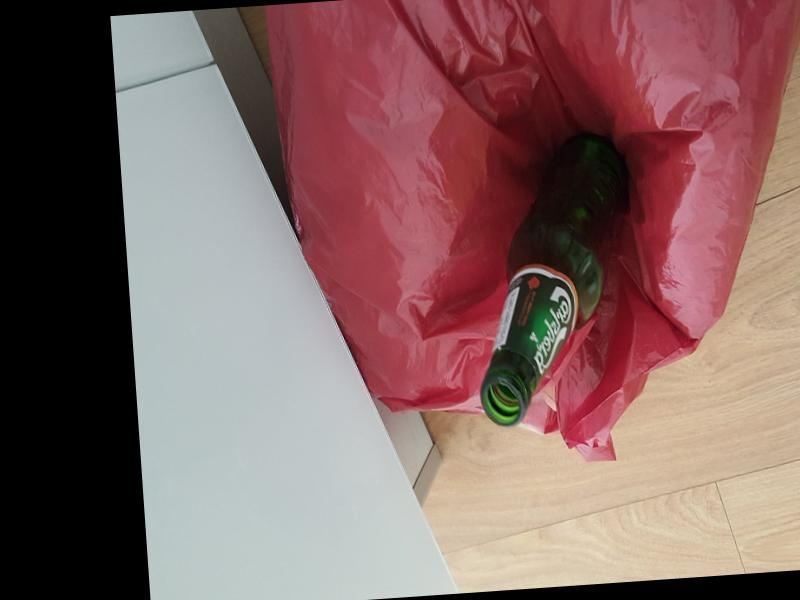Beer: (465, 135, 647, 430)
